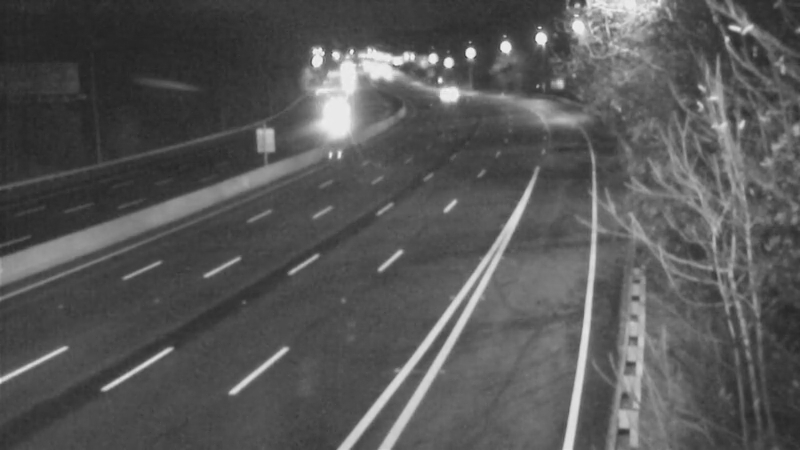vehicle: (421, 66, 471, 116), (310, 88, 360, 138)
